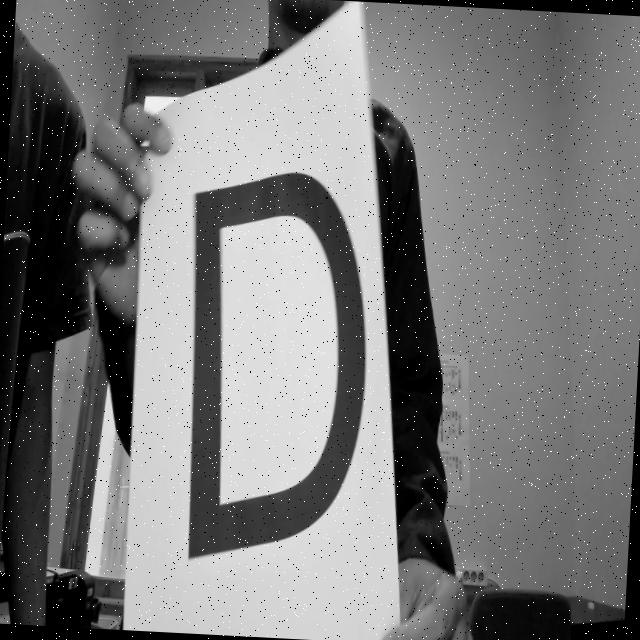d: (167, 149, 390, 596)
